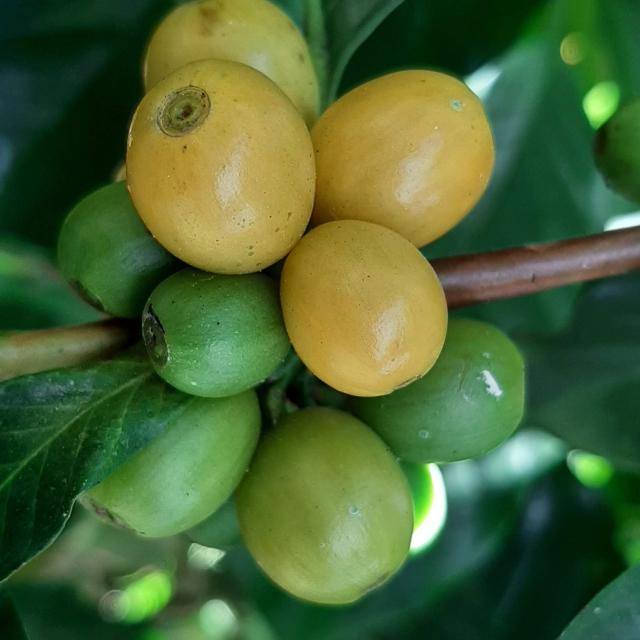green: (235, 408, 414, 606), (79, 390, 260, 539), (352, 319, 526, 464), (143, 0, 320, 127), (142, 268, 290, 398), (57, 182, 181, 318)
red: (126, 58, 316, 274), (311, 69, 495, 248), (280, 220, 448, 397)
